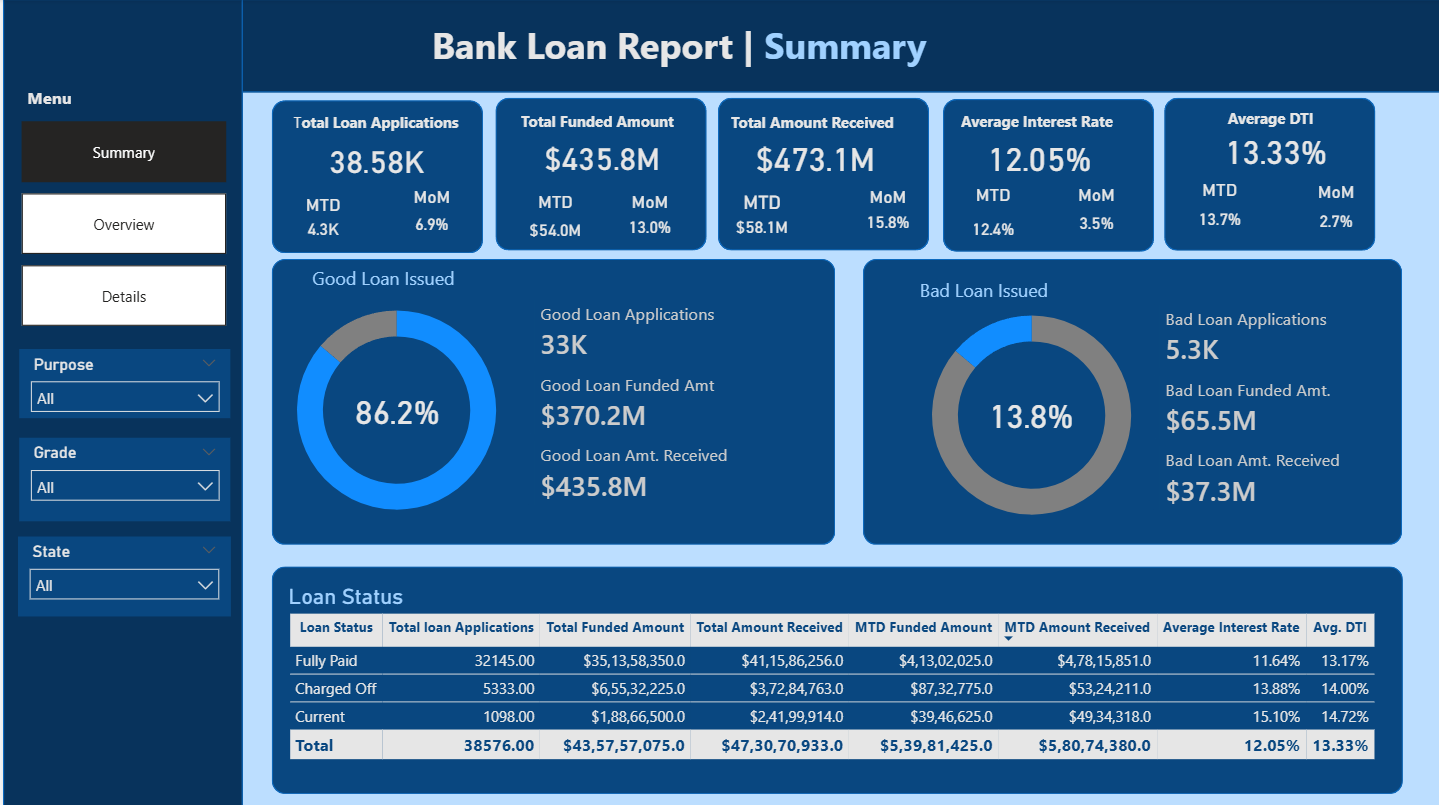

What the dashboard file says about the page in this screenshot:
{"tool":"powerbi","page":{"name":"Summary","canvas":[1280,720],"ordinal":0},"visuals":[{"type":"shape","box":[0,0,1280,83.2],"z":0},{"type":"shape","box":[238.9,505.5,1007.4,202.7],"z":1000},{"type":"shape","box":[0,0,213.5,720.2],"z":2000},{"type":"shape","box":[836.6,88.6,188,136],"z":3000},{"type":"shape","box":[1033.7,87.8,188,136.3],"z":4000},{"type":"shape","box":[636.5,87.8,188,136],"z":5000},{"type":"shape","box":[438.8,88.2,188,136],"z":6000},{"type":"shape","box":[239,89.8,188.2,136.3],"z":7000},{"type":"tableEx","title":"Loan Status","fields":{"Values":["bankloandb loan_data.loan_status","bankloandb loan_data.Total loan Applications","bankloandb loan_data.Total Funded Amt","bankloandb loan_data.Total Amt. Received","bankloandb loan_data.MTD Funded Amt","bankloandb loan_data.MTD Amt. Received","bankloandb loan_data.Avg. Interest Rate","bankloandb loan_data.Avg. DTI"]},"box":[249.7,521.2,979.6,162.9],"z":8000},{"type":"card","fields":{"Values":["bankloandb loan_data.Total loan Applications"]},"box":[269.8,122.1,127.6,42.5],"z":9000},{"type":"card","fields":{"Values":["bankloandb loan_data.Total Funded Amt"]},"box":[456.6,123.9,155.1,35.7],"z":10000},{"type":"card","fields":{"Values":["bankloandb loan_data.Total Amt. Received"]},"box":[652.2,122.8,142.4,38.6],"z":11000},{"type":"card","fields":{"Values":["bankloandb loan_data.Avg. Interest Rate"]},"box":[853.5,120.2,138.6,42.5],"z":12000},{"type":"card","fields":{"Values":["bankloandb loan_data.Avg. DTI"]},"box":[1081.3,109.1,105.7,52.1],"z":13000},{"type":"card","title":"MTD","fields":{"Values":["bankloandb loan_data.MTD Loan Applications"]},"box":[247.8,174.3,74.1,45.3],"z":14000},{"type":"card","title":"MoM","fields":{"Values":["bankloandb loan_data.MoM Loan Application"]},"box":[351.1,166.5,62.7,51.9],"z":15000},{"type":"card","title":"MTD","fields":{"Values":["bankloandb loan_data.MTD Funded Amt"]},"box":[451.2,171.9,82.3,53.5],"z":16000},{"type":"card","title":"MTD","fields":{"Values":["bankloandb loan_data.MTD Amt. Received"]},"box":[643.8,171.1,65.1,47.1],"z":17000},{"type":"card","title":"MTD","fields":{"Values":["bankloandb loan_data.MTD Interest rate"]},"box":[848,165.5,67.2,63.1],"z":18000},{"type":"card","title":"MTD","fields":{"Values":["bankloandb loan_data.MTD DTI"]},"box":[1053.9,161.2,59,54.9],"z":19000},{"type":"card","title":"MoM","fields":{"Values":["bankloandb loan_data.MoM Funded Amt"]},"box":[537.6,171.9,76.8,49.4],"z":20000},{"type":"card","title":"MoM","fields":{"Values":["bankloandb loan_data.MoM Amt. Received"]},"box":[745.1,167.5,86.9,49.5],"z":21000},{"type":"card","title":"MoM","fields":{"Values":["bankloandb loan_data.MoM Interest Rate"]},"box":[930.4,165.5,86.4,52.1],"z":22000},{"type":"card","title":"MoM","fields":{"Values":["bankloandb loan_data.MoM Avg. DTI"]},"box":[1154,162.6,65.9,56.3],"z":23000},{"type":"textbox","box":[253.9,96.1,157.8,32.9],"z":24000},{"type":"textbox","box":[848,94.1,150.9,35.7],"z":25000},{"type":"textbox","box":[456.6,95.1,157.8,30.2],"z":26000},{"type":"textbox","box":[643.8,96.3,165.3,32.6],"z":27000},{"type":"textbox","box":[322.5,226.4,104.3,48],"z":28000},{"type":"textbox","box":[1053.9,92.6,149.6,28.8],"z":29000},{"type":"slicer","fields":{"Values":["bankloandb loan_data.purpose"]},"box":[14.5,311.3,188.2,61.5],"z":30000},{"type":"slicer","fields":{"Values":["bankloandb loan_data.grade"]},"box":[14.5,390.9,188.2,74.8],"z":31000},{"type":"slicer","fields":{"Values":["bankloandb loan_data.address_state"]},"box":[13.3,479,189.4,71.2],"z":32000},{"type":"shape","box":[238.9,231.6,501.9,254.6],"z":33000},{"type":"shape","box":[766.1,231.6,480.2,254.6],"z":34000},{"type":"donutChart","fields":{"Category":["bankloandb loan_data.Good vs Bad Loan"],"Y":["bankloandb loan_data.Total loan Applications"]},"box":[220.8,250.9,260.6,231.6],"z":35000},{"type":"card","fields":{"Values":["bankloandb loan_data.Good Loan %"]},"box":[300.4,342.6,101.3,48.3],"z":36000},{"type":"textbox","box":[270.2,232.8,187,42.2],"z":37000},{"type":"cardVisual","fields":{"Data":["bankloandb loan_data.Good Loan Applications","bankloandb loan_data.Good Loan Funded Amt","bankloandb loan_data.Good Loan Amt. Received"]},"box":[450,250.9,244.9,217.2],"z":38000},{"type":"donutChart","fields":{"Category":["bankloandb loan_data.Good vs Bad Loan"],"Y":["bankloandb loan_data.Total loan Applications"]},"box":[785.4,254.6,260.6,231.6],"z":39000},{"type":"card","fields":{"Values":["bankloandb loan_data.Bad Loan %"]},"box":[865,346.2,101.3,48.3],"z":40000},{"type":"cardVisual","fields":{"Data":["bankloandb loan_data.Bad Loan Applications","bankloandb loan_data.Bad Loan Funded Amt.","bankloandb loan_data.Bad Loan Amt. Received"]},"box":[1006.2,254.6,223.2,217.2],"z":41000},{"type":"textbox","box":[811.9,242.5,160.5,32.6],"z":42000},{"type":"textbox","box":[351.1,14.5,503.1,54.3],"z":43000},{"type":"pageNavigator","box":[16.9,108.6,182.2,182.2],"z":44000},{"type":"textbox","box":[16.9,72.4,65.1,30.2],"z":45000}]}

Visuals, with their boxes in screenshot pixels (x1, y1, x2, y2), scaled from the page's 1280x720 canvas onto the 1439x805 screenshot:
shape: Rect(0, 0, 1438, 93)
shape: Rect(269, 565, 1401, 792)
shape: Rect(0, 0, 240, 804)
shape: Rect(941, 99, 1152, 251)
shape: Rect(1162, 98, 1373, 251)
shape: Rect(716, 98, 927, 250)
shape: Rect(493, 99, 705, 251)
shape: Rect(269, 100, 480, 253)
"Loan Status" tableEx: Rect(281, 583, 1382, 765)
card - bankloandb loan_data.Total loan Applications: Rect(303, 137, 447, 184)
card - bankloandb loan_data.Total Funded Amt: Rect(513, 139, 688, 178)
card - bankloandb loan_data.Total Amt. Received: Rect(733, 137, 893, 180)
card - bankloandb loan_data.Avg. Interest Rate: Rect(960, 134, 1115, 182)
card - bankloandb loan_data.Avg. DTI: Rect(1216, 122, 1334, 180)
"MTD" card: Rect(279, 195, 362, 246)
"MoM" card: Rect(395, 186, 465, 244)
"MTD" card: Rect(507, 192, 600, 252)
"MTD" card: Rect(724, 191, 797, 244)
"MTD" card: Rect(953, 185, 1029, 256)
"MTD" card: Rect(1185, 180, 1251, 242)
"MoM" card: Rect(604, 192, 691, 247)
"MoM" card: Rect(838, 187, 935, 243)
"MoM" card: Rect(1046, 185, 1143, 243)
"MoM" card: Rect(1297, 182, 1371, 245)
textbox: Rect(285, 107, 463, 144)
textbox: Rect(953, 105, 1123, 145)
textbox: Rect(513, 106, 691, 140)
textbox: Rect(724, 108, 910, 144)
textbox: Rect(363, 253, 480, 307)
textbox: Rect(1185, 104, 1353, 136)
slicer - bankloandb loan_data.purpose: Rect(16, 348, 228, 417)
slicer - bankloandb loan_data.grade: Rect(16, 437, 228, 521)
slicer - bankloandb loan_data.address_state: Rect(15, 536, 228, 615)
shape: Rect(269, 259, 833, 544)
shape: Rect(861, 259, 1401, 544)
donutChart - bankloandb loan_data.Good vs Bad Loan x bankloandb loan_data.Total loan Applications: Rect(248, 281, 541, 539)
card - bankloandb loan_data.Good Loan %: Rect(338, 383, 452, 437)
textbox: Rect(304, 260, 514, 307)
cardVisual - bankloandb loan_data.Good Loan Applications x bankloandb loan_data.Good Loan Funded Amt: Rect(506, 281, 781, 523)
donutChart - bankloandb loan_data.Good vs Bad Loan x bankloandb loan_data.Total loan Applications: Rect(883, 285, 1176, 544)
card - bankloandb loan_data.Bad Loan %: Rect(972, 387, 1086, 441)
cardVisual - bankloandb loan_data.Bad Loan Applications x bankloandb loan_data.Bad Loan Funded Amt.: Rect(1131, 285, 1382, 527)
textbox: Rect(913, 271, 1093, 308)
textbox: Rect(395, 16, 960, 77)
pageNavigator: Rect(19, 121, 224, 325)
textbox: Rect(19, 81, 92, 115)
